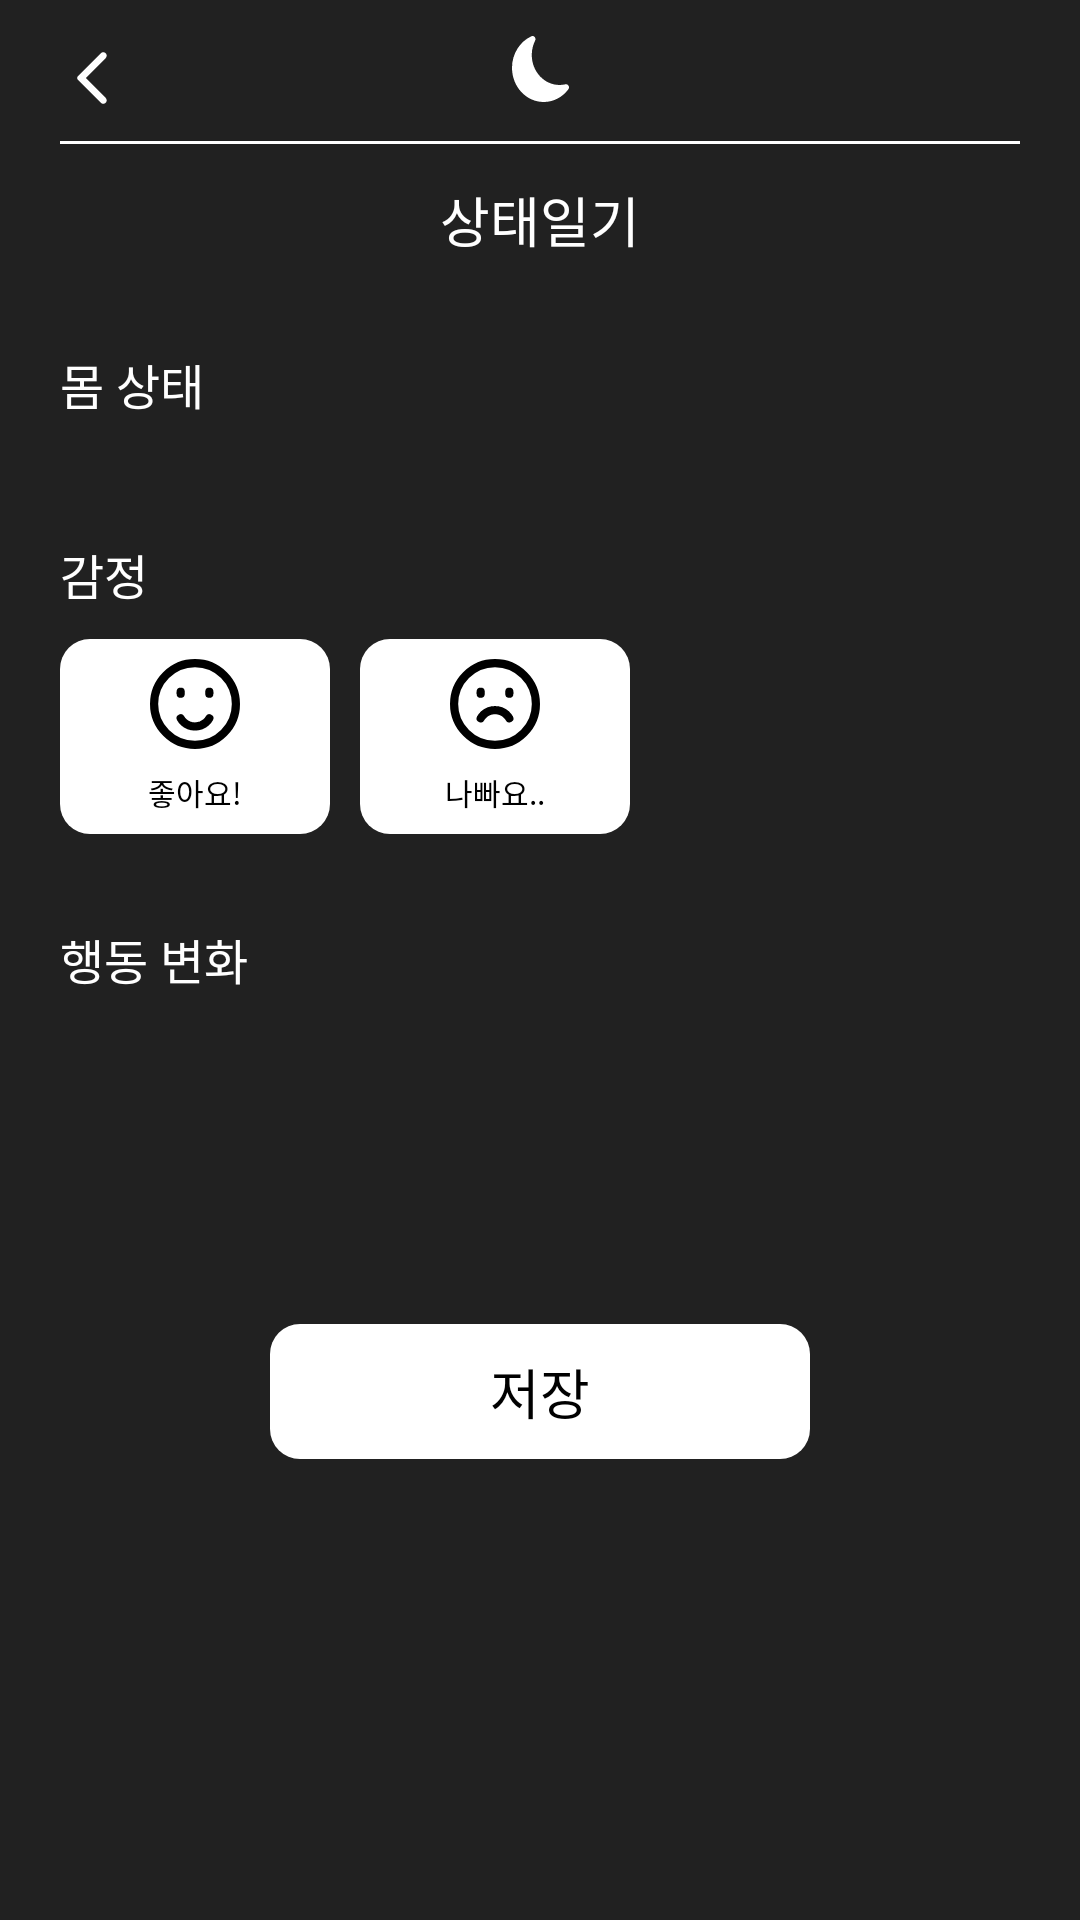

Icon click points for this 1080px×1920px phone screenshot, format [x,y]:
back: [92,78]
moon: [540,69]
